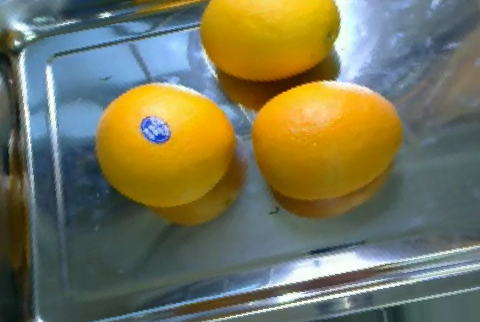Orange: (252, 79, 402, 200), (94, 81, 236, 206), (199, 0, 342, 80)
